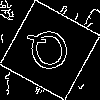Q: (25, 25, 75, 82)
